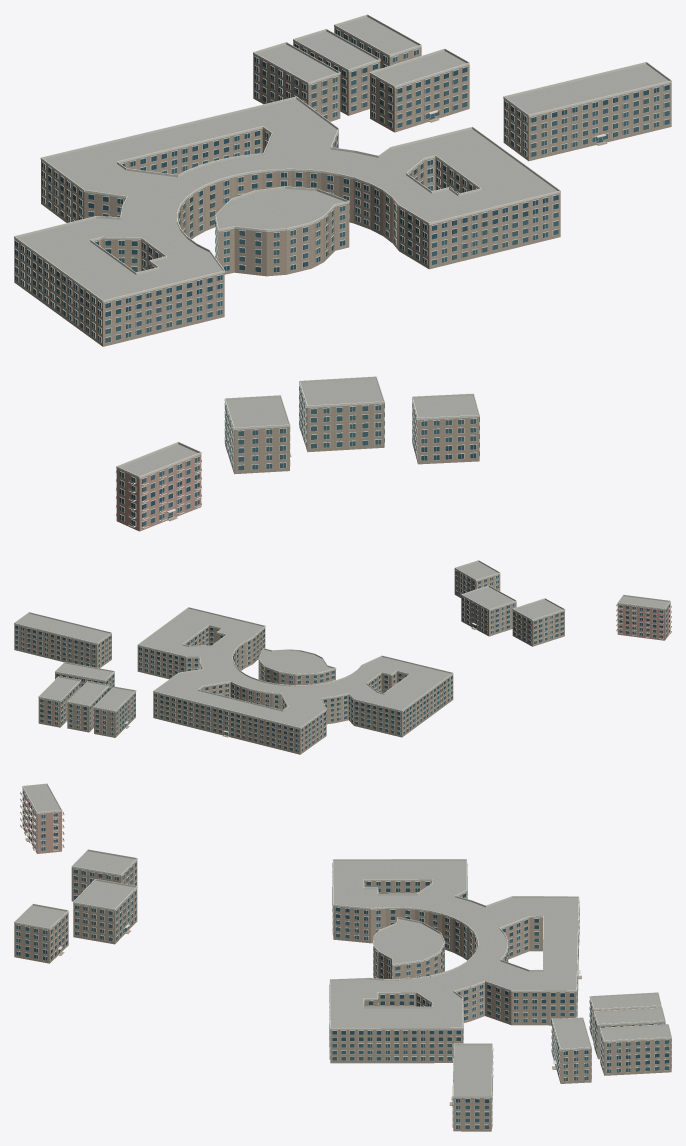
The model's file is chunk-p0-p1.glb.
The picture shows the model from 3 angles, top to bottom: view 1: azimuth 30°, elevation 25°; view 2: azimuth 150°, elevation 25°; view 3: azimuth 270°, elevation 25°; orthographic projection. The views are drawn at different scales.
Visible parts, largest first — view 1: chunk-p0-p1; view 2: chunk-p0-p1; view 3: chunk-p0-p1.
Part boxes in pixels (bbox=[...]): chunk-p0-p1: bbox=[14, 14, 671, 531]; chunk-p0-p1: bbox=[14, 560, 671, 754]; chunk-p0-p1: bbox=[14, 783, 671, 1131].
Bounding box in the file's own units: 331 × 24.37 × 302.
Materials: 6 (2 with a texture image).
